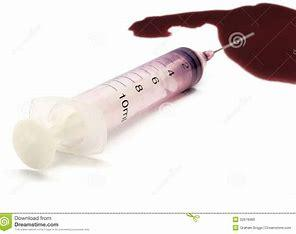Syringe: (9, 28, 254, 196)
